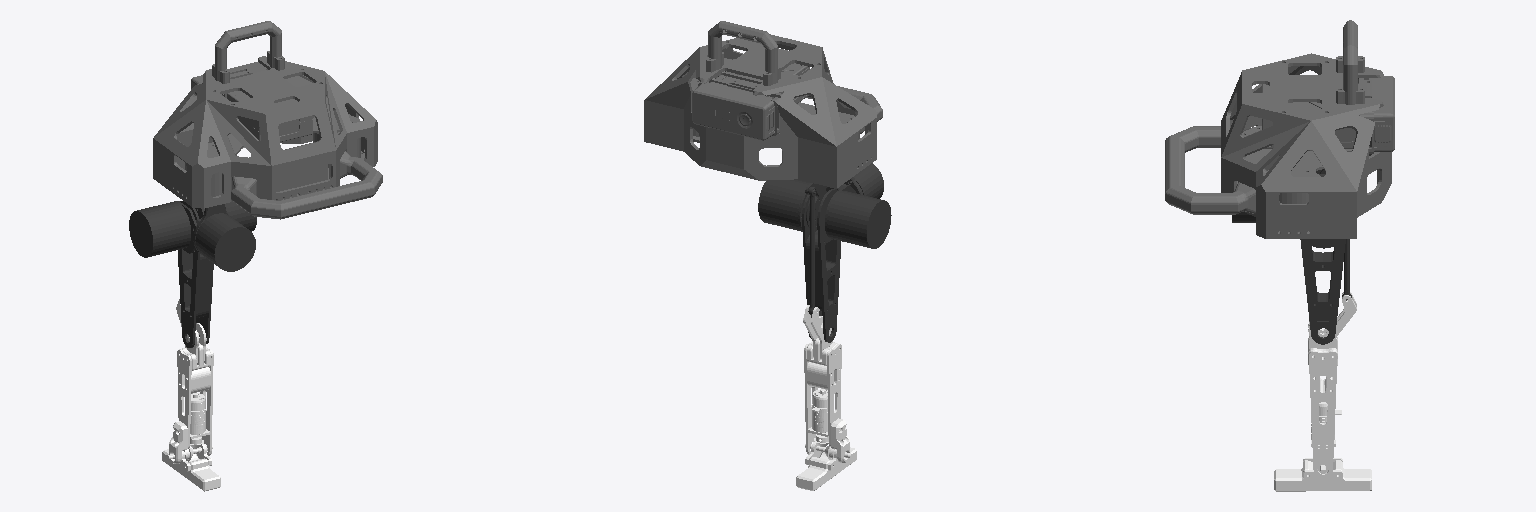
URDF robot description (humanoid_urdf):
<?xml version="1.0" encoding="utf-8"?>
<!-- This URDF was automatically created by SolidWorks to URDF Exporter! Originally created by [author] ([email redacted]) 
     Commit Version: 1.6.0-4-g7f85cfe  Build Version: 1.6.7995.38578
     For more information, please see http://wiki.ros.org/sw_urdf_exporter -->
<robot
  name="humanoid_urdf">
  <link
    name="base_link">
    <inertial>
      <origin
        xyz="-0.000573317052045033 0.00396004327974757 0.0472328130286554"
        rpy="0 0 0" />
      <mass
        value="2.15426608190487" />
      <inertia
        ixx="0.00248593077181066"
        ixy="5.56130027563014E-06"
        ixz="-3.51718771819573E-07"
        iyy="0.00461662508544819"
        iyz="5.46886846706652E-05"
        izz="0.0058435024531143" />
    </inertial>
    <visual>
      <origin
        xyz="0 0 0"
        rpy="0 0 0" />
      <geometry>
        <mesh
          filename="../meshes/base_link.STL" />
      </geometry>
      <material
        name="">
        <color
          rgba="0.498039215686275 0.498039215686275 0.498039215686275 1" />
      </material>
    </visual>
    <collision>
      <origin
        xyz="0 0 0"
        rpy="0 0 0" />
      <geometry>
        <mesh
          filename="../meshes/base_link.STL" />
      </geometry>
    </collision>
  </link>
  <link
    name="left_hip_yaw_link">
    <inertial>
      <origin
        xyz="-0.0379459369493916 2.06978738315211E-09 0.0497400966956858"
        rpy="0 0 0" />
      <mass
        value="0.324733067231361" />
      <inertia
        ixx="0.000141433387306245"
        ixy="6.55942921186921E-12"
        ixz="3.4577518425098E-06"
        iyy="0.000129081444150778"
        iyz="1.04480867657408E-11"
        izz="0.000117206487339035" />
    </inertial>
    <visual>
      <origin
        xyz="0 0 0"
        rpy="0 0 0" />
      <geometry>
        <mesh
          filename="../meshes/left_hip_yaw_link.STL" />
      </geometry>
      <material
        name="">
        <color
          rgba="0.298039215686275 0.298039215686275 0.298039215686275 1" />
      </material>
    </visual>
    <collision>
      <origin
        xyz="0 0 0"
        rpy="0 0 0" />
      <geometry>
        <mesh
          filename="../meshes/left_hip_yaw_link.STL" />
      </geometry>
    </collision>
  </link>
  <joint
    name="left_hip_yaw_joint"
    type="revolute">
    <origin
      xyz="-0.0875 0 0"
      rpy="3.1416 0 1.5708" />
    <parent
      link="base_link" />
    <child
      link="left_hip_yaw_link" />
    <axis
      xyz="0 0 1" />
    <limit
      lower="-3.14"
      upper="0"
      effort="8"
      velocity="100" />
  </joint>
  <link
    name="left_hip_roll_link">
    <inertial>
      <origin
        xyz="6.93889390390723E-17 -0.00377393469759739 0.0425871542663047"
        rpy="0 0 0" />
      <mass
        value="0.74091942750061" />
      <inertia
        ixx="0.000310507918072008"
        ixy="1.52304392367393E-20"
        ixz="-3.19168764883552E-20"
        iyy="0.000301113937203542"
        iyz="-1.6343732258397E-20"
        izz="0.000309701794950534" />
    </inertial>
    <visual>
      <origin
        xyz="0 0 0"
        rpy="0 0 0" />
      <geometry>
        <mesh
          filename="../meshes/left_hip_roll_link.STL" />
      </geometry>
      <material
        name="">
        <color
          rgba="0.298039215686275 0.298039215686275 0.298039215686275 1" />
      </material>
    </visual>
    <collision>
      <origin
        xyz="0 0 0"
        rpy="0 0 0" />
      <geometry>
        <mesh
          filename="../meshes/left_hip_roll_link.STL" />
      </geometry>
    </collision>
  </link>
  <joint
    name="left_hip_roll_joint"
    type="revolute">
    <origin
      xyz="-0.0145174865902528 -0.003773934697598 0.0518623737059448"
      rpy="3.14 -1.5707963267949 0" />
    <parent
      link="left_hip_yaw_link" />
    <child
      link="left_hip_roll_link" />
    <axis
      xyz="0 0 1" />
    <limit
      lower="-0.5"
      upper="0.5"
      effort="8"
      velocity="100" />
  </joint>
  <link
    name="left_hip_pitch_link">
    <inertial>
      <origin
        xyz="0.0479870390517597 0.00505991199135105 0.0171920717764435"
        rpy="0 0 0" />
      <mass
        value="0.184010633558111" />
      <inertia
        ixx="2.73473014646888E-05"
        ixy="6.09131129120855E-07"
        ixz="6.26955574937112E-09"
        iyy="0.000256422988909173"
        iyz="6.4373478888548E-21"
        izz="0.000280654836140823" />
    </inertial>
    <visual>
      <origin
        xyz="0 0 0"
        rpy="0 0 0" />
      <geometry>
        <mesh
          filename="../meshes/left_hip_pitch_link.STL" />
      </geometry>
      <material
        name="">
        <color
          rgba="0.298039215686275 0.298039215686275 0.298039215686275 1" />
      </material>
    </visual>
    <collision>
      <origin
        xyz="0 0 0"
        rpy="0 0 0" />
      <geometry>
        <mesh
          filename="../meshes/left_hip_pitch_link.STL" />
      </geometry>
    </collision>
  </link>
  <joint
    name="left_hip_pitch_joint"
    type="revolute">
    <origin
      xyz="0 0.013726 0.044017"
      rpy="1.5708 0 0" />
    <parent
      link="left_hip_roll_link" />
    <child
      link="left_hip_pitch_link" />
    <axis
      xyz="0 0 1" />
    <limit
      lower="-1.57"
      upper="1.57"
      effort="28"
      velocity="10" />
  </joint>
  <link
    name="left_knee_link">
    <inertial>
      <origin
        xyz="0.0721749183117968 -0.00240215295113531 0.00157209782384361"
        rpy="0 0 0" />
      <mass
        value="0.129468515543408" />
      <inertia
        ixx="1.60197715682468E-05"
        ixy="-2.53410724620411E-06"
        ixz="-2.63597041804843E-07"
        iyy="6.04925057894266E-05"
        iyz="-5.77087558417287E-09"
        izz="6.96947217153468E-05" />
    </inertial>
    <visual>
      <origin
        xyz="0 0 0"
        rpy="0 0 0" />
      <geometry>
        <mesh
          filename="../meshes/left_knee_link.STL" />
      </geometry>
      <material
        name="">
        <color
          rgba="1 1 1 1" />
      </material>
    </visual>
    <collision>
      <origin
        xyz="0 0 0"
        rpy="0 0 0" />
      <geometry>
        <mesh
          filename="../meshes/left_knee_link.STL" />
      </geometry>
    </collision>
  </link>
  <joint
    name="left_knee_joint"
    type="revolute">
    <origin
      xyz="0.149999999999999 0 0.0165000000000005"
      rpy="-3.14159265358979 0 0" />
    <parent
      link="left_hip_pitch_link" />
    <child
      link="left_knee_link" />
    <axis
      xyz="0 0 1" />
    <limit
      lower="-0.1"
      upper="1.57"
      effort="28"
      velocity="10" />
  </joint>
  <link
    name="left_ankle_link">
    <inertial>
      <origin
        xyz="-0.00 0.015 0.0"
        rpy="0 0 0" />
      <mass
        value="0.0921064167654803" />
      <inertia
        ixx="9.05097170806094E-06"
        ixy="1.81066211035528E-08"
        ixz="3.56823484883396E-09"
        iyy="4.84638222864542E-05"
        iyz="6.57174766424855E-09"
        izz="4.41364603360046E-05" />
    </inertial>
    <visual>
      <origin
        xyz="0 0 0"
        rpy="0 0 0" />
      <geometry>
        <mesh
          filename="../meshes/left_ankle_link.STL" />
      </geometry>
      <material
        name="">
        <color
          rgba="1 1 1 1" />
      </material>
    </visual>
    <collision>
      <origin
        xyz="0 0 0"
        rpy="0 0 0" />
      <geometry>
        <mesh
          filename="../meshes/left_ankle_link.STL" />
      </geometry>
    </collision>
  </link>
  <joint
    name="left_ankle_joint"
    type="revolute">
    <origin
      xyz="0.15 -0.00 0"
      rpy="0 0 -1.5708" />
    <parent
      link="left_knee_link" />
    <child
      link="left_ankle_link" />
    <axis
      xyz="0 0 1" />
    <limit
      lower="-0.5"
      upper="0.5"
      effort="1"
      velocity="100" />
  </joint>
  <link
    name="right_hip_yaw_link">
    <inertial>
      <origin
        xyz="-0.0379459369493914 2.06978749417441E-09 0.0497400966956854"
        rpy="0 0 0" />
      <mass
        value="0.324733067231361" />
      <inertia
        ixx="0.000141433387306245"
        ixy="6.55942921745577E-12"
        ixz="3.45775184250981E-06"
        iyy="0.000129081444150778"
        iyz="1.04480867654366E-11"
        izz="0.000117206487339035" />
    </inertial>
    <visual>
      <origin
        xyz="0 0 0"
        rpy="0 0 0" />
      <geometry>
        <mesh
          filename="../meshes/right_hip_yaw_link.STL" />
      </geometry>
      <material
        name="">
        <color
          rgba="0.298039215686275 0.298039215686275 0.298039215686275 1" />
      </material>
    </visual>
    <collision>
      <origin
        xyz="0 0 0"
        rpy="0 0 0" />
      <geometry>
        <mesh
          filename="../meshes/right_hip_yaw_link.STL" />
      </geometry>
    </collision>
  </link>
  <joint
    name="right_hip_yaw_joint"
    type="revolute">
    <origin
      xyz="0.0875 0 0"
      rpy="3.14159265358979 0 1.5707963267949" />
    <parent
      link="base_link" />
    <child
      link="right_hip_yaw_link" />
    <axis
      xyz="0 0 1" />
    <limit
      lower="0"
      upper="3.14"
      effort="8"
      velocity="100" />
  </joint>
  <link
    name="right_hip_roll_link">
    <inertial>
      <origin
        xyz="-1.80411241501588E-16 -1.2490009027033E-16 0.0430696676760518"
        rpy="0 0 0" />
      <mass
        value="0.74091942750061" />
      <inertia
        ixx="0.000310507918072007"
        ixy="5.11100355673162E-21"
        ixz="-3.242118440167E-20"
        iyy="0.000301113937203541"
        iyz="-3.11364639102072E-20"
        izz="0.000309701794950533" />
    </inertial>
    <visual>
      <origin
        xyz="0 0 0"
        rpy="0 0 0" />
      <geometry>
        <mesh
          filename="../meshes/right_hip_roll_link.STL" />
      </geometry>
      <material
        name="">
        <color
          rgba="0.298039215686275 0.298039215686275 0.298039215686275 1" />
      </material>
    </visual>
    <collision>
      <origin
        xyz="0 0 0"
        rpy="0 0 0" />
      <geometry>
        <mesh
          filename="../meshes/right_hip_roll_link.STL" />
      </geometry>
    </collision>
  </link>
  <joint
    name="right_hip_roll_joint"
    type="revolute">
    <origin
      xyz="-0.015 0 0.0518623737059446"
      rpy="3.14 -1.5707963267949 0" />
    <parent
      link="right_hip_yaw_link" />
    <child
      link="right_hip_roll_link" />
    <axis
      xyz="0 0 1" />
    <limit
      lower="-0.5"
      upper="0.5"
      effort="8"
      velocity="100" />
  </joint>
  <link
    name="right_hip_pitch_link">
    <inertial>
      <origin
        xyz="0.0498754687365081 0.00525903425843485 0.0177702475718518"
        rpy="0 0 0" />
      <mass
        value="0.177043458080398" />
      <inertia
        ixx="2.68105314964815E-05"
        ixy="6.0913112912134E-07"
        ixz="6.26955574937132E-09"
        iyy="0.000255886218940966"
        iyz="2.69970740719855E-20"
        izz="0.000279621924148731" />
    </inertial>
    <visual>
      <origin
        xyz="0 0 0"
        rpy="0 0 0" />
      <geometry>
        <mesh
          filename="../meshes/right_hip_pitch_link.STL" />
      </geometry>
      <material
        name="">
        <color
          rgba="1 1 1 1" />
      </material>
    </visual>
    <collision>
      <origin
        xyz="0 0 0"
        rpy="0 0 0" />
      <geometry>
        <mesh
          filename="../meshes/right_hip_pitch_link.STL" />
      </geometry>
    </collision>
  </link>
  <joint
    name="right_hip_pitch_joint"
    type="revolute">
    <origin
      xyz="0 0.0174999999999999 0.0444999999999999"
      rpy="1.5707963267949 0 0" />
    <parent
      link="right_hip_roll_link" />
    <child
      link="right_hip_pitch_link" />
    <axis
      xyz="0 0 1" />
    <limit
      lower="-1.57"
      upper="1.57"
      effort="28"
      velocity="10" />
  </joint>
  <link
    name="right_knee_link">
    <inertial>
      <origin
        xyz="0.07217491820784 -0.00240215293208319 0.0015720978287662"
        rpy="0 0 0" />
      <mass
        value="0.12946851518188" />
      <inertia
        ixx="1.60197715353982E-05"
        ixy="-2.53410721720736E-06"
        ixz="-2.63597041214221E-07"
        iyy="6.04925057637204E-05"
        iyz="-5.77087489958248E-09"
        izz="6.96947216567525E-05" />
    </inertial>
    <visual>
      <origin
        xyz="0 0 0"
        rpy="0 0 0" />
      <geometry>
        <mesh
          filename="../meshes/right_knee_link.STL" />
      </geometry>
      <material
        name="">
        <color
          rgba="1 1 1 1" />
      </material>
    </visual>
    <collision>
      <origin
        xyz="0 0 0"
        rpy="0 0 0" />
      <geometry>
        <mesh
          filename="../meshes/right_knee_link.STL" />
      </geometry>
    </collision>
  </link>
  <joint
    name="right_knee_joint"
    type="revolute">
    <origin
      xyz="0.15 0 0.0165"
      rpy="3.14159265358979 0 0" />
    <parent
      link="right_hip_pitch_link" />
    <child
      link="right_knee_link" />
    <axis
      xyz="0 0 1" />
    <limit
      lower="-0.1"
      upper="1.57"
      effort="28"
      velocity="10" />
  </joint>
  <link
    name="right_ankle_link">
    <inertial>
      <origin
        xyz="-5.77642003424597E-06 0.0133193242897697 0.00659262849062175"
        rpy="0 0 0" />
      <mass
        value="0.0921064167654801" />
      <inertia
        ixx="9.05097170806092E-06"
        ixy="1.81066211037553E-08"
        ixz="3.5682348487821E-09"
        iyy="4.84638222864541E-05"
        iyz="6.57174766424946E-09"
        izz="4.41364603360045E-05" />
    </inertial>
    <visual>
      <origin
        xyz="0 0 0"
        rpy="0 0 0" />
      <geometry>
        <mesh
          filename="../meshes/right_ankle_link.STL" />
      </geometry>
      <material
        name="">
        <color
          rgba="1 1 1 1" />
      </material>
    </visual>
    <collision>
      <origin
        xyz="0 0 0"
        rpy="0 0 0" />
      <geometry>
        <mesh
          filename="../meshes/right_ankle_link.STL" />
      </geometry>
    </collision>
  </link>
  <joint
    name="right_ankle_joint"
    type="revolute">
    <origin
      xyz="0.15 0 0"
      rpy="0 0 -1.5707963267949" />
    <parent
      link="right_knee_link" />
    <child
      link="right_ankle_link" />
    <axis
      xyz="0 0 1" />
    <limit
      lower="-0.5"
      upper="0.5"
      effort="1"
      velocity="100" />
  </joint>
</robot>

--- Render facts (derived) ---
Views: 3 orthographic renders of the robot side by side, from view 1: azimuth 30°, elevation 25°; view 2: azimuth 150°, elevation 25°; view 3: azimuth 270°, elevation 25°.
Robot: humanoid_urdf — 11 links, 10 joints (10 revolute); root link base_link; default pose: all joints at 0.
Visible links, largest first — view 1: base_link, left_knee_link, left_hip_roll_link, left_hip_yaw_link, left_hip_pitch_link, left_ankle_link; view 2: base_link, left_hip_roll_link, left_knee_link, left_hip_pitch_link, left_ankle_link, left_hip_yaw_link; view 3: base_link, left_knee_link, left_hip_pitch_link, left_ankle_link.
Link boxes in pixels (x1,y1,x2,y2): base_link: (153, 21, 382, 219); left_knee_link: (169, 299, 213, 463); left_hip_roll_link: (129, 201, 256, 257); left_hip_yaw_link: (193, 204, 255, 271); left_hip_pitch_link: (178, 201, 213, 347); left_ankle_link: (162, 443, 220, 491); base_link: (644, 21, 882, 188); left_hip_roll_link: (758, 179, 891, 248); left_knee_link: (803, 305, 849, 462); left_hip_pitch_link: (802, 183, 840, 342); left_ankle_link: (796, 442, 856, 490); left_hip_yaw_link: (844, 163, 883, 198); base_link: (1165, 20, 1394, 238); left_knee_link: (1308, 292, 1356, 477); left_hip_pitch_link: (1300, 169, 1351, 344); left_ankle_link: (1274, 458, 1371, 491).
Bounding box of the posed robot: 0.2891 × 0.2329 × 0.5524 m (x, y, z).
6 mesh visuals loaded from 11 distinct referenced files (6 binary STL); not drawn: 5 (reference not matched to a file when rendering).